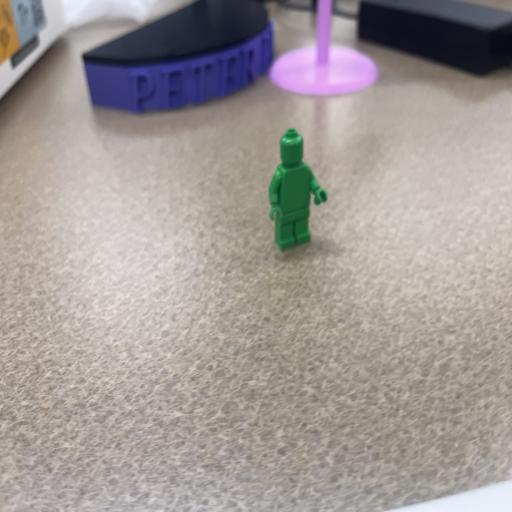Lego-Minifig: (269, 129, 328, 250)
